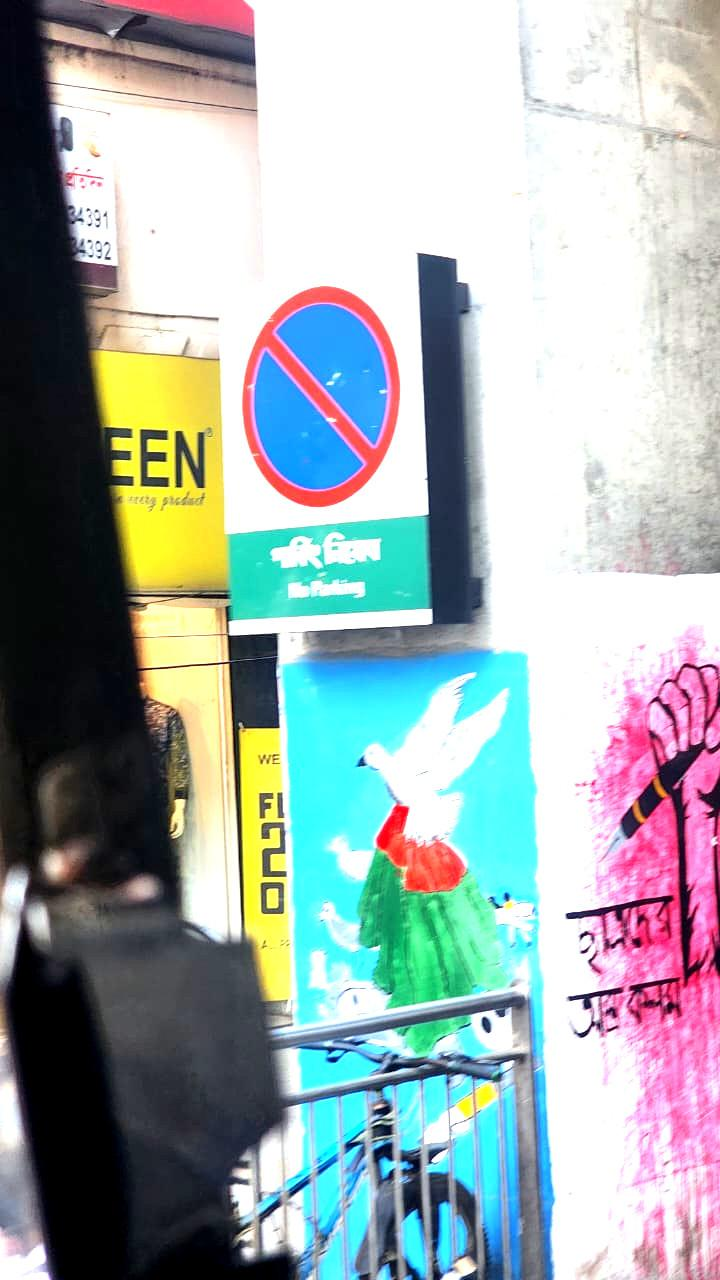No Parking: (216, 238, 446, 632)
